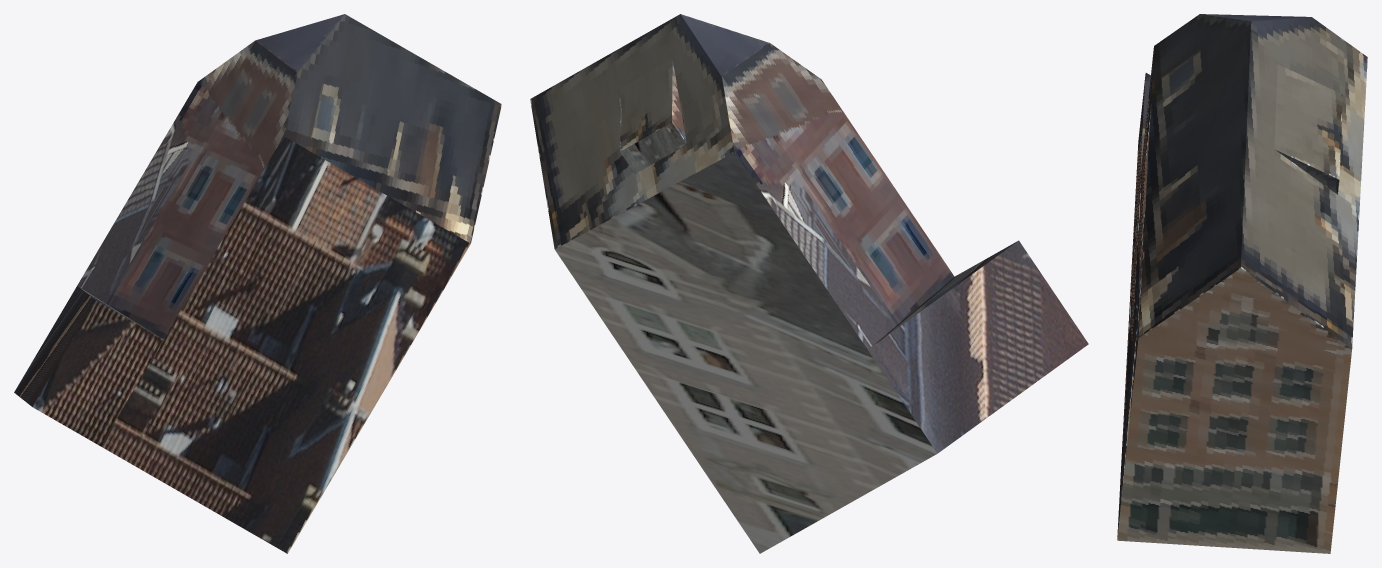
3 renders of one model, left to right at view 1: azimuth 30°, elevation 25°; view 2: azimuth 150°, elevation 25°; view 3: azimuth 270°, elevation 25°, orthographic. The views are drawn at different scales.
Parts seen in each view (by area): view 1: BAG_0599100000760362 (×6); view 2: BAG_0599100000760362 (×6); view 3: BAG_0599100000760362 (×6).
Part boxes in pixels (x1,y1,x2,y2): BAG_0599100000760362 (×6): [14, 14, 501, 553]; BAG_0599100000760362 (×6): [530, 14, 1088, 553]; BAG_0599100000760362 (×6): [1117, 14, 1367, 553].
Bounding box in the file's own units: 20.88 × 18.88 × 7.15.
Materials: 1 (1 with a texture image).
